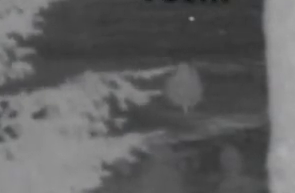Target: (188, 17, 194, 21)
